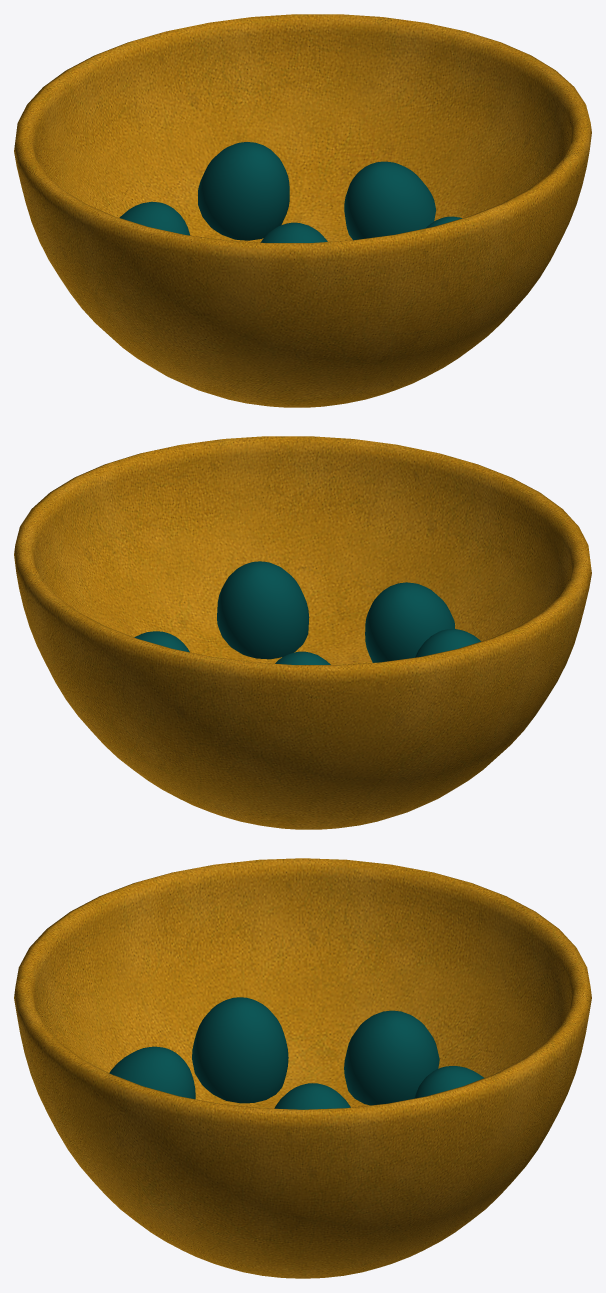
Rendered from Lysosome.fbx.
3 views of the same model, one above another, from view 1: azimuth 30°, elevation 25°; view 2: azimuth 150°, elevation 25°; view 3: azimuth 270°, elevation 25° (orthographic). The views are drawn at different scales.
Visible parts, largest first — view 1: pSphere10; view 2: pSphere10; view 3: pSphere10.
Boxes of the visible parts, x1=… form: pSphere10: x1=14, y1=14, x2=591, y2=407; pSphere10: x1=14, y1=436, x2=591, y2=829; pSphere10: x1=14, y1=858, x2=591, y2=1278.
Bounding box in the file's own units: 8.73 × 4.18 × 8.21.
Materials: 2 (1 with a texture image).
